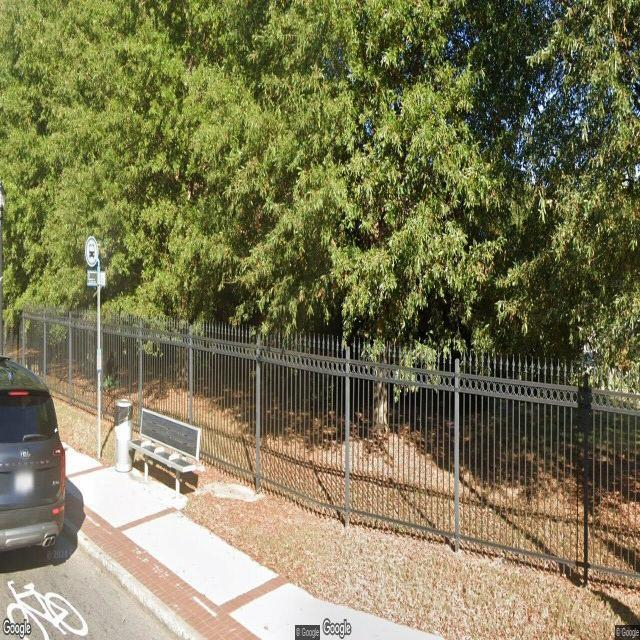seating: (127, 408, 201, 502)
trash_can: (115, 399, 132, 472)
